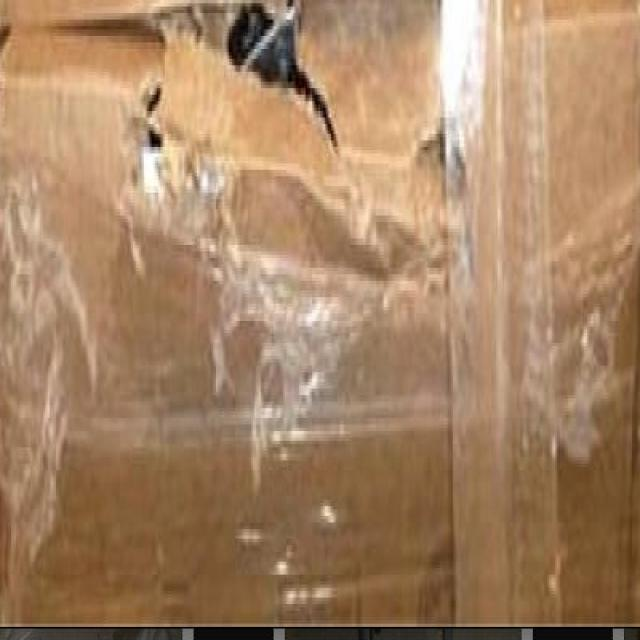damaged: (218, 0, 360, 165)
